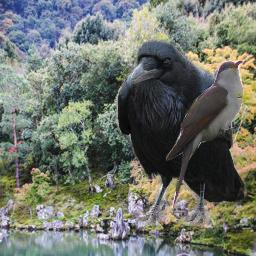Crow: (115, 38, 247, 226)
Cuckoo: (165, 60, 244, 211)
